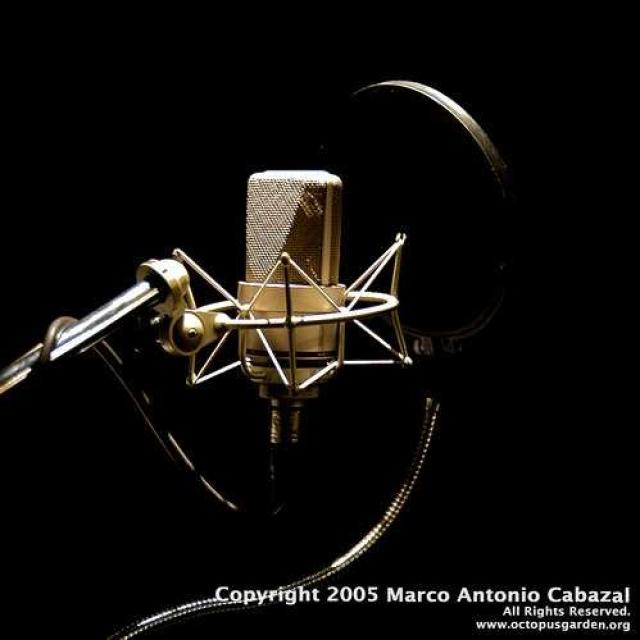microphone: (239, 173, 342, 409)
